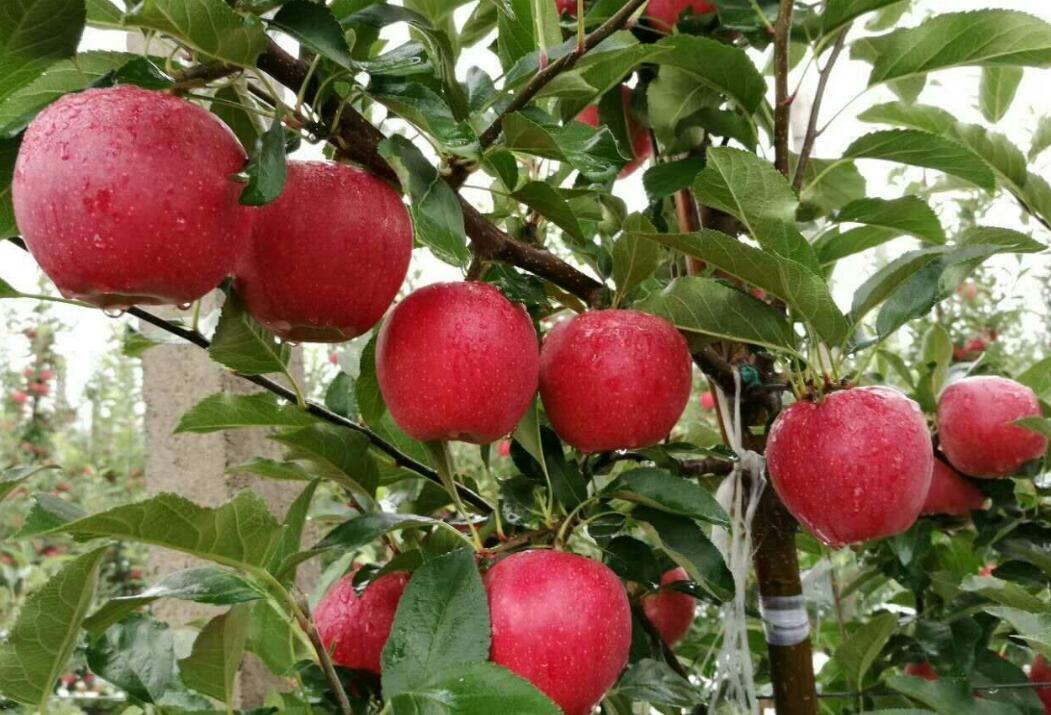apple: (11, 83, 250, 315), (224, 161, 411, 345), (762, 384, 933, 552), (373, 282, 541, 448), (474, 546, 631, 707), (535, 307, 692, 454), (936, 374, 1046, 480), (313, 565, 406, 667)
